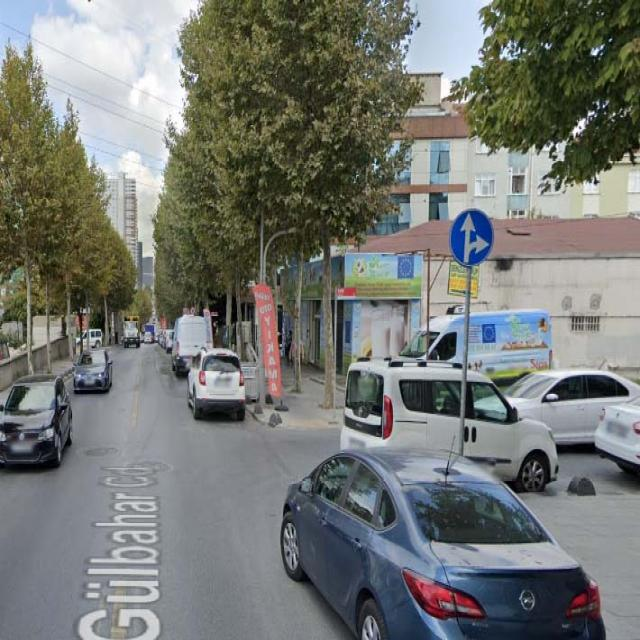ilerisag: (450, 210, 494, 266)
